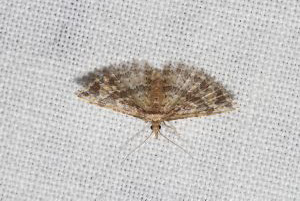Alucitidae: (70, 56, 238, 157)
moth: (72, 58, 240, 159)
